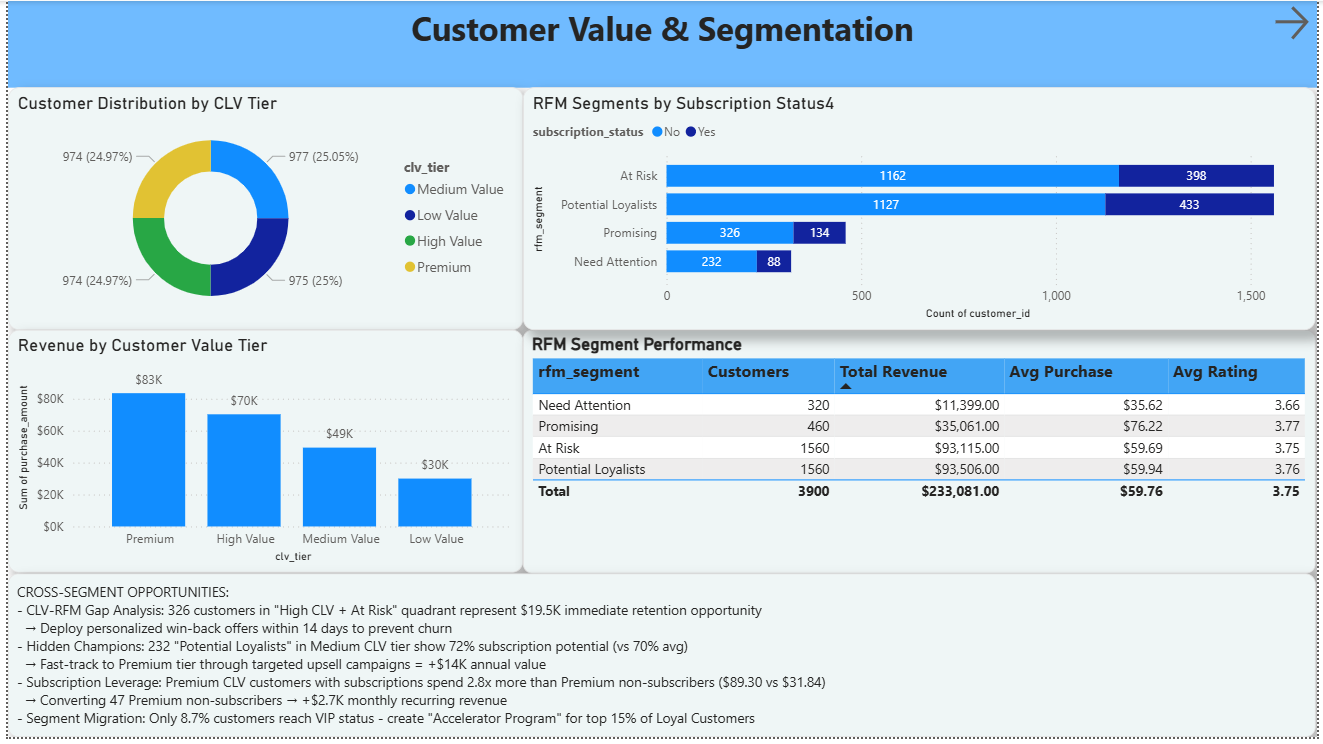

The dashboard page shown, as its layout file describes it:
{"tool":"powerbi","page":{"name":"Customer Value Analysis","canvas":[1280,720],"ordinal":1},"visuals":[{"type":"textbox","box":[0,0,1280.5,84.5],"z":0},{"type":"donutChart","title":"Customer Distribution by CLV Tier","fields":{"Category":["customer_enhanced.clv_tier"],"Y":["Count(customer_enhanced.customer_id)"]},"box":[0,84.5,504.3,237.6],"z":1000},{"type":"clusteredColumnChart","title":"Revenue by Customer Value Tier","fields":{"Category":["customer_enhanced.clv_tier"],"Y":["Sum(customer_enhanced.purchase_amount)"]},"box":[0,322.1,504.3,237.6],"z":2000},{"type":"tableEx","title":"RFM Segment Performance","fields":{"Values":["customer_enhanced.rfm_segment","Count(customer_enhanced.customer_id)","Sum(customer_enhanced.purchase_amount)","Avg(customer_enhanced.purchase_amount)","Avg(customer_enhanced.review_rating)"]},"box":[503.8,321.6,775.3,238.5],"z":3000},{"type":"textbox","box":[0,560.1,1279.1,160.2],"z":4000},{"type":"barChart","title":"RFM Segments by Subscription Status4","fields":{"Category":["customer_enhanced.rfm_segment"],"Y":["Count(customer_enhanced.customer_id)"],"Series":["customer_enhanced.subscription_status"]},"box":[503.8,84.4,775.3,237.2],"z":5000},{"type":"actionButton","box":[1234.3,0,45.7,42.9],"z":7000}]}

Visuals, with their boxes in screenshot pixels (x1, y1, x2, y2), scaled from the page's 1280x720 canvas onto the 1323x744 screenshot:
textbox: {"x1": 0, "y1": 0, "x2": 1322, "y2": 87}
"Customer Distribution by CLV Tier" donutChart: {"x1": 0, "y1": 87, "x2": 521, "y2": 333}
"Revenue by Customer Value Tier" clusteredColumnChart: {"x1": 0, "y1": 333, "x2": 521, "y2": 578}
"RFM Segment Performance" tableEx: {"x1": 521, "y1": 332, "x2": 1322, "y2": 579}
textbox: {"x1": 0, "y1": 579, "x2": 1322, "y2": 743}
"RFM Segments by Subscription Status4" barChart: {"x1": 521, "y1": 87, "x2": 1322, "y2": 332}
actionButton: {"x1": 1276, "y1": 0, "x2": 1322, "y2": 44}
